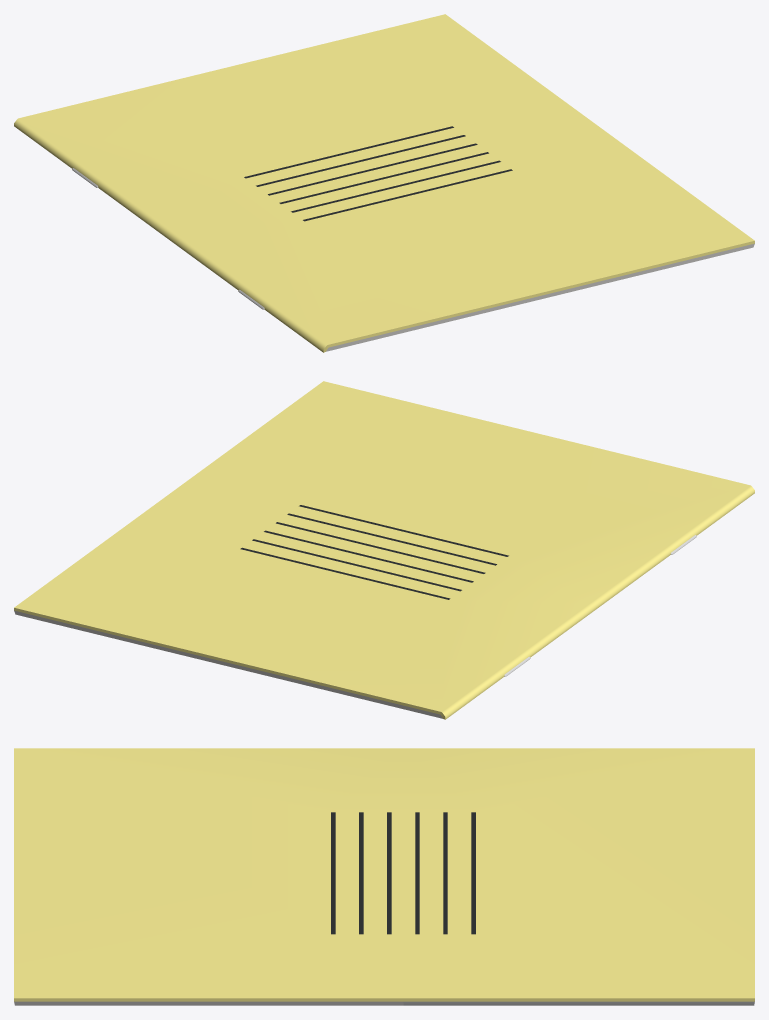
Rendered from Notebook_02.fbx.
The picture shows the model from 3 angles, top to bottom: view 1: azimuth 30°, elevation 25°; view 2: azimuth 150°, elevation 25°; view 3: azimuth 270°, elevation 25°; orthographic projection. The views are drawn at different scales.
Parts seen in each view (by area): view 1: Notebook_02; view 2: Notebook_02; view 3: Notebook_02.
Part boxes in pixels (x1,y1,x2,y2): Notebook_02: [14, 14, 754, 352]; Notebook_02: [14, 381, 754, 719]; Notebook_02: [14, 748, 754, 1005].
Bounding box in the file's own units: 16.77 × 0.2533 × 20.77.
